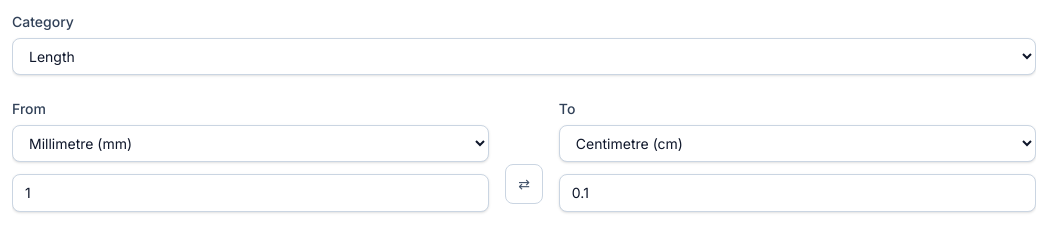
Test: UnitConverter › switches category and converts temperature
Select "Temperature" in the dropdown labelled "Category" at (524, 56), box [12,38,1036,75]
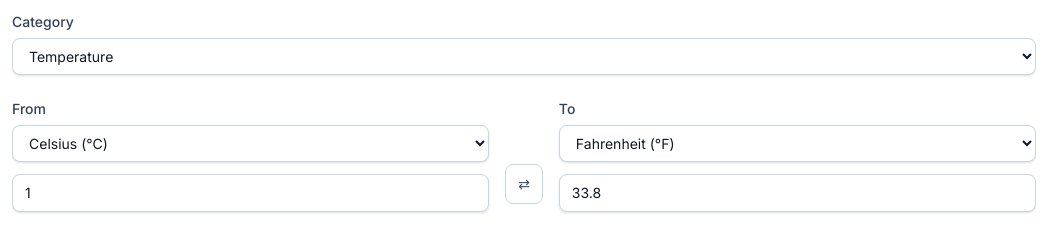
Replace the text in the number field named "Value to convert" with "100" at (251, 193), box [12,174,489,212]
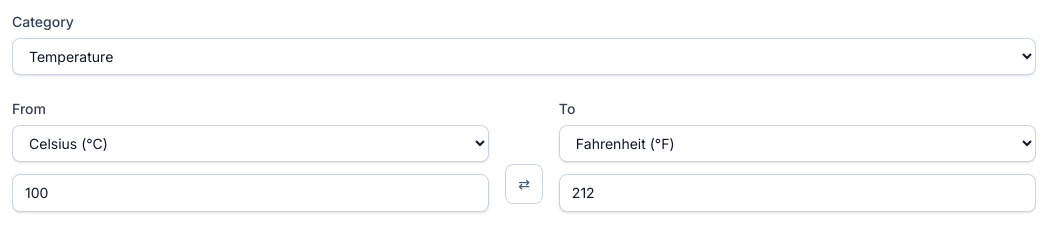
Expected: the field named "Converted result" holds "212", [559,174,1036,212]
